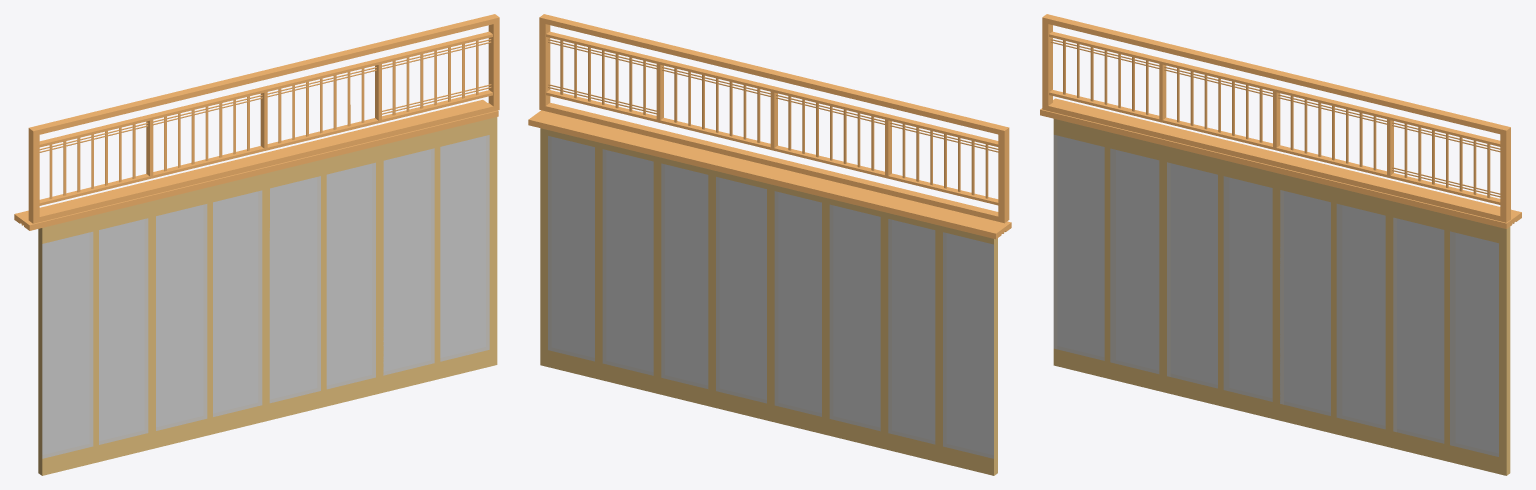
Rendered from wall2.fbx.
3 renders of one model, left to right at view 1: azimuth 30°, elevation 25°; view 2: azimuth 150°, elevation 25°; view 3: azimuth 330°, elevation 25°, orthographic.
Parts seen in each view (by area): view 1: Cube.013, Cube.009, Cube.008, Cube.012, Group_02.000, Group_145_1; view 2: Cube.013, Cube.009, Cube.012, Cube.008, Group_02.000, Group_145_1; view 3: Cube.009, Cube.013, Cube.008, Cube.012, Group_02.000, Group_145_1.
Boxes of the visible parts, box(x1,y1,x2,y2) form: Cube.013: box(38, 200, 155, 475); Cube.009: box(383, 117, 497, 392); Cube.008: box(269, 144, 383, 420); Cube.012: box(156, 172, 269, 447); Group_02.000: box(28, 14, 499, 223); Group_145_1: box(14, 99, 498, 230); Cube.013: box(880, 211, 997, 475); Cube.009: box(540, 128, 653, 392); Cube.012: box(767, 183, 880, 448); Cube.008: box(653, 156, 766, 420); Group_02.000: box(539, 14, 1009, 223); Group_145_1: box(528, 110, 1011, 239); Cube.009: box(1393, 201, 1510, 475); Cube.013: box(1053, 119, 1166, 392); Cube.008: box(1280, 174, 1393, 448); Cube.012: box(1167, 146, 1280, 420); Group_02.000: box(1042, 14, 1510, 222); Group_145_1: box(1040, 98, 1521, 228).
Bounding box in the file's own units: 580 × 411 × 34.62.
